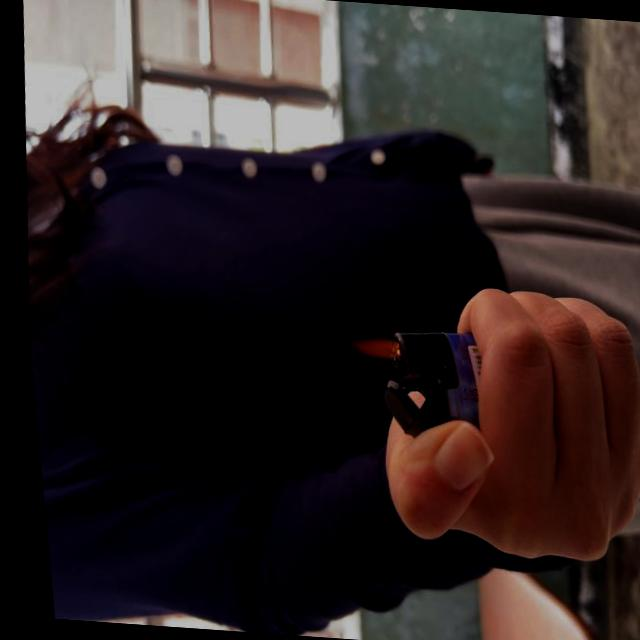Fire: (335, 334, 397, 364)
